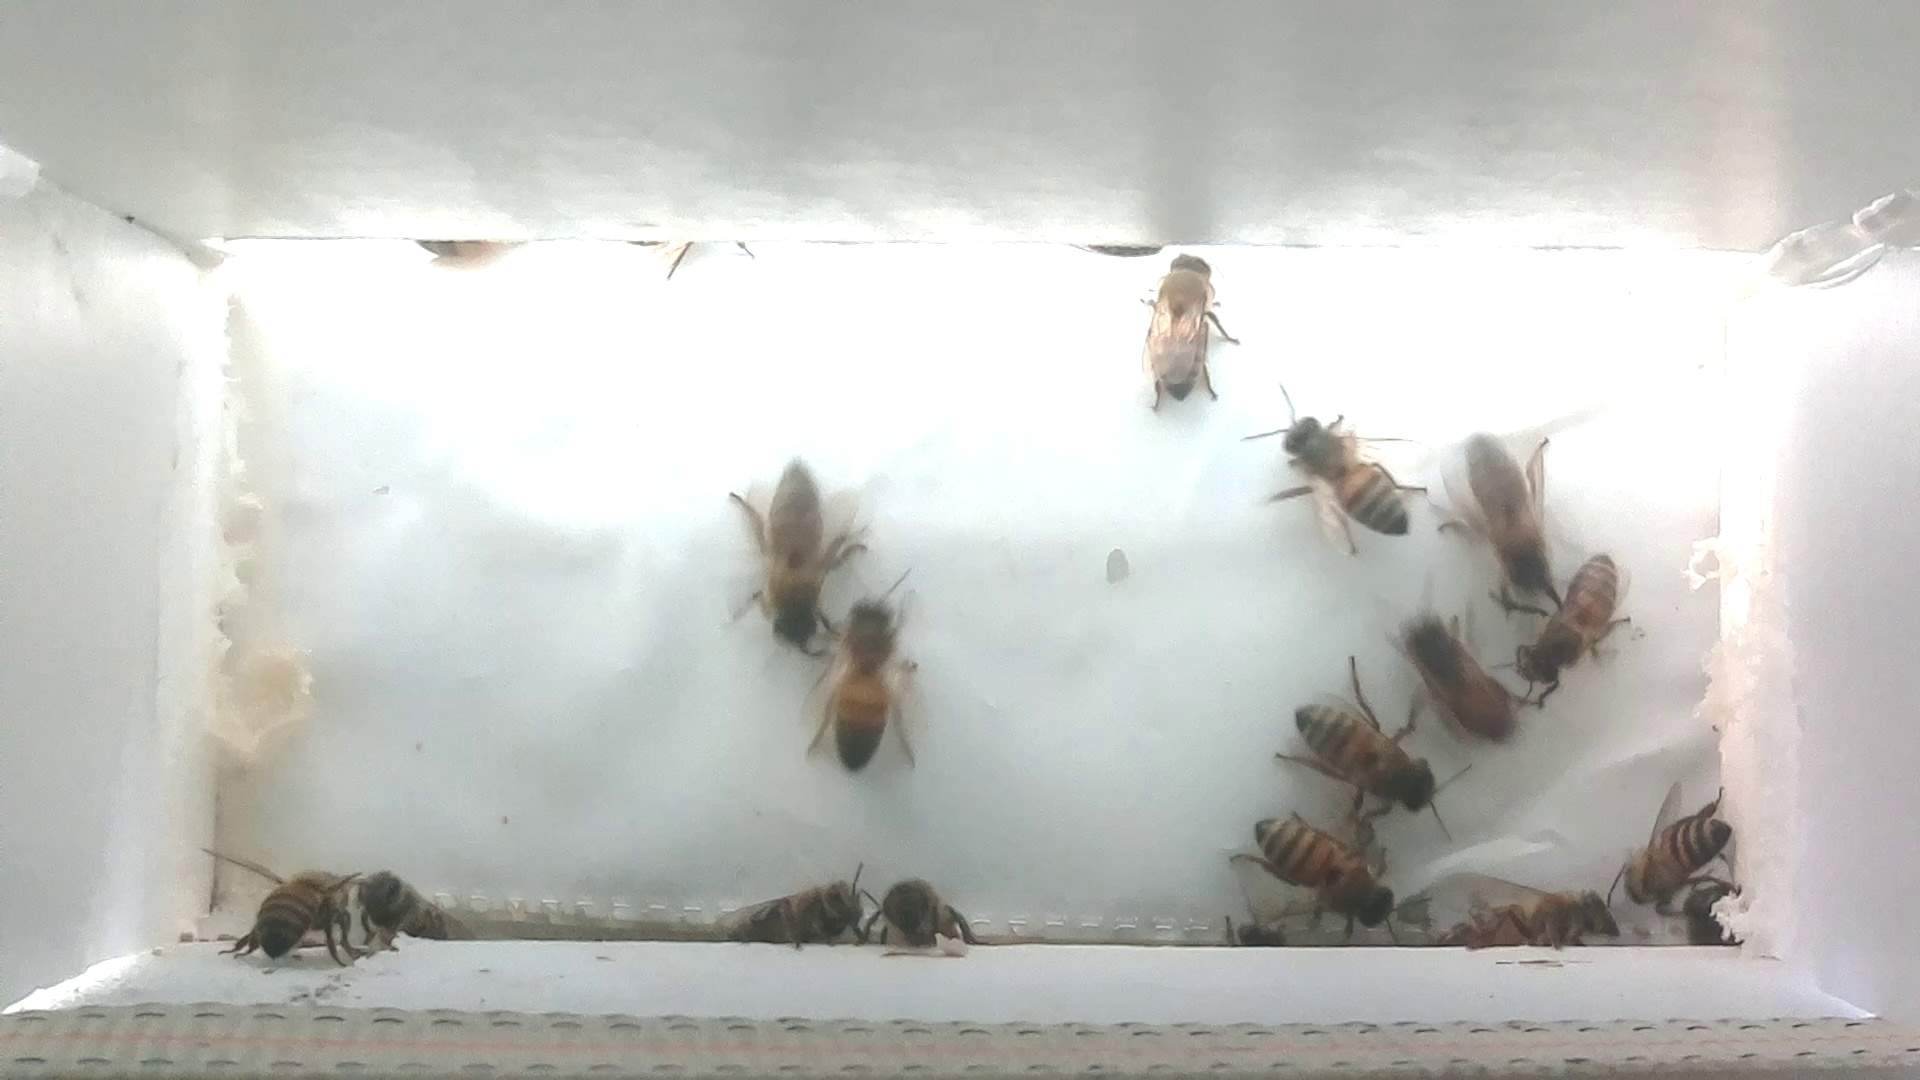bee: (1246, 655, 1484, 829), (1230, 375, 1440, 568), (717, 436, 865, 676), (793, 556, 934, 793), (1218, 785, 1424, 945), (1433, 411, 1575, 628), (194, 819, 368, 981), (1371, 593, 1539, 761), (1493, 535, 1640, 720), (1586, 767, 1759, 923), (1410, 856, 1621, 969), (688, 847, 876, 961), (1126, 243, 1236, 418), (858, 847, 985, 961), (345, 843, 473, 956)
